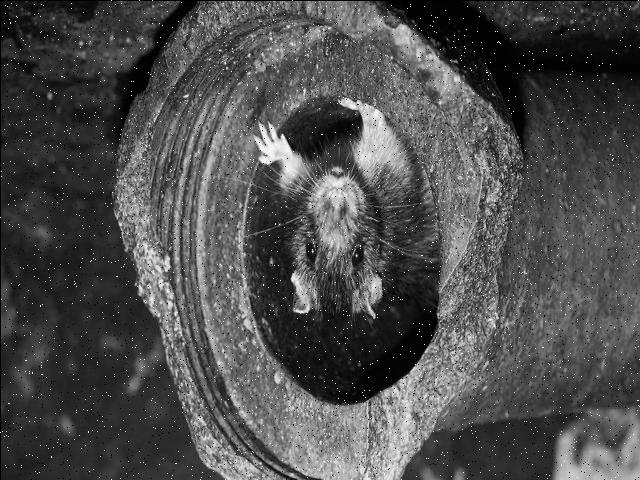Tikus: (250, 102, 436, 326)
